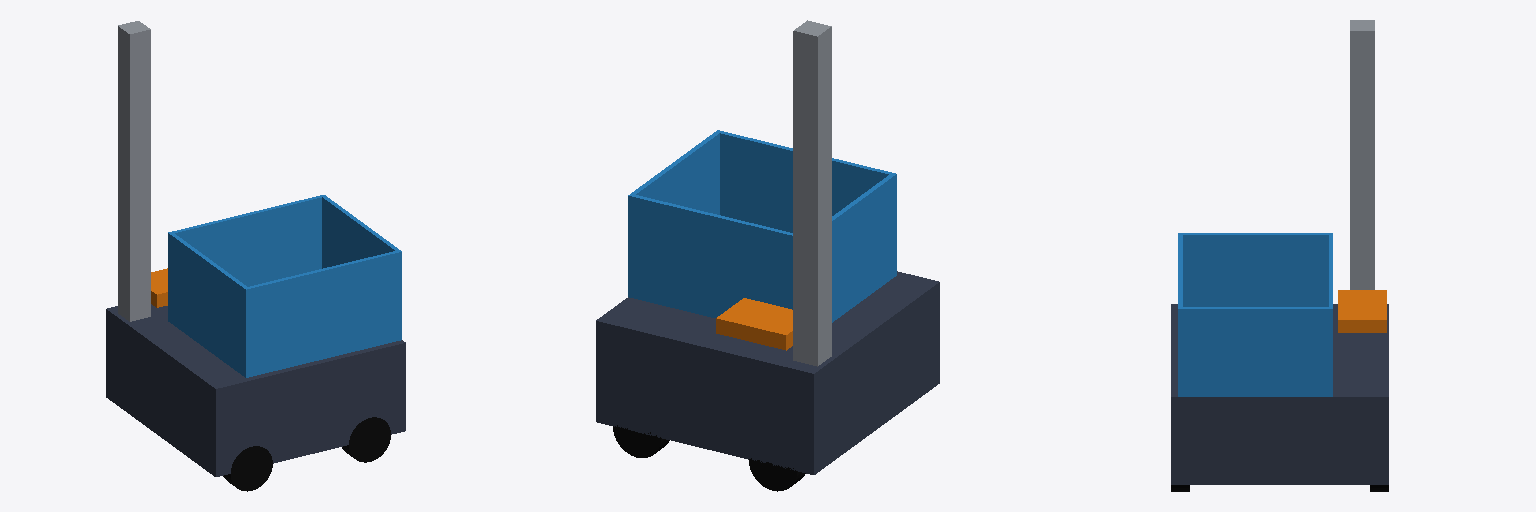
The robot description file, URDF, robot "house_robot":
<?xml version="1.0"?>
<!-- generated by tools/gen_robot.py; PiPER part from agilexrobotics/piper_ros (MIT), see assets/robot/README.md -->
<robot name="house_robot">
  <material name="chassis"><color rgba="0.25 0.28 0.35 1"/></material>
  <material name="wheel"><color rgba="0.08 0.08 0.08 1"/></material>
  <material name="column"><color rgba="0.6 0.62 0.65 1"/></material>
  <material name="carriage"><color rgba="0.9 0.5 0.1 1"/></material>
  <material name="basket"><color rgba="0.2 0.55 0.8 1"/></material>
  <link name="world_anchor">
    <inertial><origin xyz="0 0 0" rpy="0 0 0"/><mass value="0.1"/><inertia ixx="0.001" ixy="0" ixz="0" iyy="0.001" iyz="0" izz="0.001"/></inertial>
  </link>
  <link name="base_x">
    <inertial><origin xyz="0 0 0" rpy="0 0 0"/><mass value="0.1"/><inertia ixx="0.001" ixy="0" ixz="0" iyy="0.001" iyz="0" izz="0.001"/></inertial>
  </link>
  <link name="base_y">
    <inertial><origin xyz="0 0 0" rpy="0 0 0"/><mass value="0.1"/><inertia ixx="0.001" ixy="0" ixz="0" iyy="0.001" iyz="0" izz="0.001"/></inertial>
  </link>
  <joint name="base_x_joint" type="prismatic">
    <origin xyz="0 0 0" rpy="0 0 0"/>
    <parent link="world_anchor"/>
    <child link="base_x"/>
    <axis xyz="1 0 0"/>
    <limit lower="-20" upper="20" effort="500" velocity="2"/>
    <dynamics damping="0" friction="0"/>
  </joint>
  <joint name="base_y_joint" type="prismatic">
    <origin xyz="0 0 0" rpy="0 0 0"/>
    <parent link="base_x"/>
    <child link="base_y"/>
    <axis xyz="0 1 0"/>
    <limit lower="-20" upper="20" effort="500" velocity="2"/>
    <dynamics damping="0" friction="0"/>
  </joint>
  <joint name="base_yaw_joint" type="revolute">
    <origin xyz="0 0 0" rpy="0 0 0"/>
    <parent link="base_y"/>
    <child link="base_link"/>
    <axis xyz="0 0 1"/>
    <limit lower="-6.2832" upper="6.2832" effort="200" velocity="3"/>
    <dynamics damping="0" friction="0"/>
  </joint>
  <link name="base_link">
    <inertial><origin xyz="0 0 0.15" rpy="0 0 0"/><mass value="15"/><inertia ixx="0.303125" ixy="0" ixz="0" iyy="0.303125" iyz="0" izz="0.50625"/></inertial>
    <visual><origin xyz="0 0 0.15" rpy="0 0 0"/><geometry><box size="0.45 0.45 0.2"/></geometry><material name="chassis"/></visual>
    <collision><origin xyz="0 0 0.15" rpy="0 0 0"/><geometry><box size="0.45 0.45 0.2"/></geometry></collision>
    <visual><origin xyz="0.14 0.205 0.05" rpy="1.5708 0 0"/><geometry><cylinder radius="0.05" length="0.04"/></geometry><material name="wheel"/></visual>
    <visual><origin xyz="0.14 -0.205 0.05" rpy="1.5708 0 0"/><geometry><cylinder radius="0.05" length="0.04"/></geometry><material name="wheel"/></visual>
    <visual><origin xyz="-0.14 0.205 0.05" rpy="1.5708 0 0"/><geometry><cylinder radius="0.05" length="0.04"/></geometry><material name="wheel"/></visual>
    <visual><origin xyz="-0.14 -0.205 0.05" rpy="1.5708 0 0"/><geometry><cylinder radius="0.05" length="0.04"/></geometry><material name="wheel"/></visual>
    <visual><origin xyz="-0.19 0.17 0.575" rpy="0 0 0"/><geometry><box size="0.05 0.05 0.65"/></geometry><material name="column"/></visual>
    <collision><origin xyz="-0.19 0.17 0.575" rpy="0 0 0"/><geometry><box size="0.05 0.05 0.65"/></geometry></collision>
    <visual><origin xyz="0.04 -0.05 0.255" rpy="0 0 0"/><geometry><box size="0.37 0.32 0.01"/></geometry><material name="basket"/></visual>
    <collision><origin xyz="0.04 -0.05 0.255" rpy="0 0 0"/><geometry><box size="0.37 0.32 0.01"/></geometry></collision>
    <visual><origin xyz="0.22 -0.05 0.35" rpy="0 0 0"/><geometry><box size="0.01 0.32 0.2"/></geometry><material name="basket"/></visual>
    <collision><origin xyz="0.22 -0.05 0.35" rpy="0 0 0"/><geometry><box size="0.01 0.32 0.2"/></geometry></collision>
    <visual><origin xyz="-0.14 -0.05 0.35" rpy="0 0 0"/><geometry><box size="0.01 0.32 0.2"/></geometry><material name="basket"/></visual>
    <collision><origin xyz="-0.14 -0.05 0.35" rpy="0 0 0"/><geometry><box size="0.01 0.32 0.2"/></geometry></collision>
    <visual><origin xyz="0.04 0.105 0.35" rpy="0 0 0"/><geometry><box size="0.35 0.01 0.2"/></geometry><material name="basket"/></visual>
    <collision><origin xyz="0.04 0.105 0.35" rpy="0 0 0"/><geometry><box size="0.35 0.01 0.2"/></geometry></collision>
    <visual><origin xyz="0.04 -0.205 0.35" rpy="0 0 0"/><geometry><box size="0.35 0.01 0.2"/></geometry><material name="basket"/></visual>
    <collision><origin xyz="0.04 -0.205 0.35" rpy="0 0 0"/><geometry><box size="0.35 0.01 0.2"/></geometry></collision>
  </link>
  <link name="carriage">
    <inertial><origin xyz="-0.0225 0 0.015" rpy="0 0 0"/><mass value="1"/><inertia ixx="0.000908333" ixy="0" ixz="0" iyy="0.00182708" iyz="0" izz="0.00258542"/></inertial>
    <visual><origin xyz="-0.0225 0 0.015" rpy="0 0 0"/><geometry><box size="0.145 0.1 0.03"/></geometry><material name="carriage"/></visual>
    <collision><origin xyz="-0.0225 0 0.015" rpy="0 0 0"/><geometry><box size="0.145 0.1 0.03"/></geometry></collision>
  </link>
  <joint name="lift_joint" type="prismatic">
    <origin xyz="-0.07 0.17 0.28" rpy="0 0 0"/>
    <parent link="base_link"/>
    <child link="carriage"/>
    <axis xyz="0 0 1"/>
    <limit lower="0" upper="0.5" effort="500" velocity="0.2"/>
    <dynamics damping="10" friction="0"/>
  </joint>
  <joint name="carriage_to_piper" type="fixed">
    <origin xyz="0 0 0.03" rpy="0 0 0"/>
    <parent link="carriage"/>
    <child link="piper_base_link"/>
  </joint>
  <link name="piper_base_link">
    <inertial>
      <origin xyz="-0.00473641164191482 2.56829134630247E-05 0.041451518036016" rpy="0 0 0" />
      <mass value="1.02" />
      <inertia ixx="0.00267433" ixy="-0.00000073" ixz="-0.00017389" iyy="0.00282612" iyz="0.0000004" izz="0.00089624" />
    </inertial>
    <visual>
      <origin xyz="0 0 0" rpy="0 0 0" />
      <geometry>
        <mesh filename="piper/meshes/base_link.STL" />
      </geometry>
      <material name="">
        <color rgba="0.792156862745098 0.819607843137255 0.933333333333333 1" />
      </material>
    </visual>
    <collision>
      <origin xyz="0 0 0" rpy="0 0 0" />
      <geometry>
        <mesh filename="piper/meshes/base_link.STL" />
      </geometry>
    </collision>
  </link>
  <link name="link1">
    <inertial>
      <origin xyz="0.000121504734057468 0.000104632162460536 -0.00438597309559853" rpy="0 0 0" />
      <mass value="0.71" />
      <inertia ixx="0.00048916" ixy="-0.00000036" ixz="-0.00000224" iyy="0.00040472" iyz="-0.00000242" izz="0.00043982" />
    </inertial>
    <visual>
      <origin xyz="0 0 0" rpy="0 0 0" />
      <geometry>
        <mesh filename="piper/meshes/link1.STL" />
      </geometry>
      <material name="">
        <color rgba="0.792156862745098 0.819607843137255 0.933333333333333 1" />
      </material>
    </visual>
    <collision>
      <origin xyz="0 0 0" rpy="0 0 0" />
      <geometry>
        <mesh filename="piper/meshes/link1.STL" />
      </geometry>
    </collision>
  </link>
  <joint name="joint1" type="revolute">
    <origin xyz="0 0 0.123" rpy="0 0 0" />
    <parent link="piper_base_link" />
    <child link="link1" />
    <axis xyz="0 0 1" />
    <limit lower="-2.618" upper="2.618" effort="100" velocity="5" />
  </joint>
  <link name="link2">
    <inertial>
      <origin xyz="0.198666145229743 -0.010926924140076 0.00142121714502687" rpy="0 0 0" />
      <mass value="1.17" />
      <inertia ixx="0.00116918" ixy="-0.00180037" ixz="0.00025146" iyy="0.06785384" iyz="-0.00000455" izz="0.06774489" />
    </inertial>
    <visual>
      <origin xyz="0 0 0" rpy="0 0 0" />
      <geometry>
        <mesh filename="piper/meshes/link2.STL" />
      </geometry>
      <material name="">
        <color rgba="0.792156862745098 0.819607843137255 0.933333333333333 1" />
      </material>
    </visual>
    <collision>
      <origin xyz="0 0 0" rpy="0 0 0" />
      <geometry>
        <mesh filename="piper/meshes/link2.STL" />
      </geometry>
    </collision>
  </link>
  <joint name="joint2" type="revolute">
    <origin xyz="0 0 0" rpy="1.5708 -0.1359 -3.1416" />
    <parent link="link1" />
    <child link="link2" />
    <axis xyz="0 0 1" />
    <limit lower="0" upper="3.14" effort="100" velocity="5" />
  </joint>
  <link name="link3">
    <inertial>
      <origin xyz="-0.0202737662122021 -0.133914995944595 -0.000458682652737356" rpy="0 0 0" />
      <mass value="0.5" />
      <inertia ixx="0.01361711" ixy="0.00165794" ixz="-0.00000048" iyy="0.00045024" iyz="-0.00000045" izz="0.01380322" />
    </inertial>
    <visual>
      <origin xyz="0 0 0" rpy="0 0 0" />
      <geometry>
        <mesh filename="piper/meshes/link3.STL" />
      </geometry>
      <material name="">
        <color rgba="0.792156862745098 0.819607843137255 0.933333333333333 1" />
      </material>
    </visual>
    <collision>
      <origin xyz="0 0 0" rpy="0 0 0" />
      <geometry>
        <mesh filename="piper/meshes/link3.STL" />
      </geometry>
    </collision>
  </link>
  <joint name="joint3" type="revolute">
    <origin xyz="0.28503 0 0" rpy="0 0 -1.7939" />
    <parent link="link2" />
    <child link="link3" />
    <axis xyz="0 0 1" />
    <limit lower="-2.967" upper="0" effort="100" velocity="5" />
  </joint>
  <link name="link4">
    <inertial>
      <origin xyz="-9.66635791618542E-05 0.000876064475651083 -0.00496880904640868" rpy="0 0 0" />
      <mass value="0.38" />
      <inertia ixx="0.00018501" ixy="0.00000054" ixz="0.00000120" iyy="0.00018965" iyz="-0.00000841" izz="0.00015484" />
    </inertial>
    <visual>
      <origin xyz="0 0 0" rpy="0 0 0" />
      <geometry>
        <mesh filename="piper/meshes/link4.STL" />
      </geometry>
      <material name="">
        <color rgba="0.792156862745098 0.819607843137255 0.933333333333333 1" />
      </material>
    </visual>
    <collision>
      <origin xyz="0 0 0" rpy="0 0 0" />
      <geometry>
        <mesh filename="piper/meshes/link4.STL" />
      </geometry>
    </collision>
  </link>
  <joint name="joint4" type="revolute">
    <origin xyz="-0.021984 -0.25075 0" rpy="1.5708 0 0" />
    <parent link="link3" />
    <child link="link4" />
    <axis xyz="0 0 1" />
    <limit lower="-1.745" upper="1.745" effort="100" velocity="5" />
  </joint>
  <link name="link5">
    <inertial>
      <origin xyz="-4.10554118924211E-05 -0.0566486692356075 -0.0037205791677906" rpy="0 0 0" />
      <mass value="0.383" />
      <inertia ixx="0.00166169" ixy="0.00000006" ixz="-0.00000007" iyy="0.00018510" iyz="0.00001026" izz="0.00164321" />
    </inertial>
    <visual>
      <origin xyz="0 0 0" rpy="0 0 0" />
      <geometry>
        <mesh filename="piper/meshes/link5.STL" />
      </geometry>
      <material name="">
        <color rgba="0.792156862745098 0.819607843137255 0.933333333333333 1" />
      </material>
    </visual>
    <collision>
      <origin xyz="0 0 0" rpy="0 0 0" />
      <geometry>
        <mesh filename="piper/meshes/link5.STL" />
      </geometry>
    </collision>
  </link>
  <joint name="joint5" type="revolute">
    <origin xyz="0 0 0" rpy="-1.5708 0 0" />
    <parent link="link4" />
    <child link="link5" />
    <axis xyz="0 0 1" />
    <limit lower="-1.22" upper="1.22" effort="100" velocity="5" />
  </joint>
  <link name="link6">
    <inertial>
      <origin xyz="-8.82590762930069E-05 9.0598378529832E-06 -0.002" rpy="0 0 0" />
      <mass value="0.007" />
      <inertia ixx="5.73015540542155E-07" ixy="-1.98305403089247E-22" ixz="-7.2791893904596E-23" iyy="5.73015540542155E-07" iyz="-3.4146026640245E-24" izz="1.06738869138926E-06" />
    </inertial>
    <visual>
      <origin xyz="0 0 0" rpy="0 0 0" />
      <geometry>
        <mesh filename="piper/meshes/link6.STL" />
      </geometry>
      <material name="">
        <color rgba="0.898039215686275 0.917647058823529 0.929411764705882 1" />
      </material>
    </visual>
    <collision>
      <origin xyz="0 0 0" rpy="0 0 0" />
      <geometry>
        <mesh filename="piper/meshes/link6.STL" />
      </geometry>
    </collision>
  </link>
  <joint name="joint6" type="revolute">
    <origin xyz="8.8259E-05 -0.091 0" rpy="1.5708 0 0" />
    <parent link="link5" />
    <child link="link6" />
    <axis xyz="0 0 1" />
    <limit lower="-2.0944" upper="2.0944" effort="100" velocity="3" />
  </joint>
  <link name="gripper_base">
    <inertial>
      <origin xyz="-0.000183807162235591 8.05033155577911E-05 0.0321436689908876" rpy="0 0 0" />
      <mass value="0.45" />
      <inertia ixx="0.00092934" ixy="0.00000034" ixz="-0.00000738" iyy="0.00071447" iyz="0.00000005" izz="0.00039442" />
    </inertial>
    <visual>
      <origin xyz="0 0 0" rpy="0 0 0" />
      <geometry>
        <mesh filename="piper/meshes/gripper_base.STL" />
      </geometry>
      <material name="">
        <color rgba="0.792156862745098 0.819607843137255 0.933333333333333 1" />
      </material>
    </visual>
    <collision>
      <origin xyz="0 0 0" rpy="0 0 0" />
      <geometry>
        <mesh filename="piper/meshes/gripper_base.STL" />
      </geometry>
    </collision>
  </link>
  <joint name="joint6_to_gripper_base" type="fixed">
    <origin xyz="0 0 0" rpy="0 0 0" />
    <parent link="link6" />
    <child link="gripper_base" />
  </joint>
  <link name="link7">
    <inertial>
      <origin xyz="0.00065123185041968 -0.0491929869131989 0.00972258769184025" rpy="0 0 0" />
      <mass value="0.025" />
      <inertia ixx="0.00007371" ixy="-0.00000113" ixz="0.00000021" iyy="0.00000781" iyz="-0.00001372" izz="0.0000747" />
    </inertial>
    <visual>
      <origin xyz="0 0 0" rpy="0 0 0" />
      <geometry>
        <mesh filename="piper/meshes/link7.STL" />
      </geometry>
      <material name="">
        <color rgba="0.792156862745098 0.819607843137255 0.933333333333333 1" />
      </material>
    </visual>
    <collision>
      <origin xyz="0 0 0" rpy="0 0 0" />
      <geometry>
        <mesh filename="piper/meshes/link7.STL" />
      </geometry>
    </collision>
  </link>
  <joint name="joint7" type="prismatic">
    <origin xyz="0 0 0.1358" rpy="1.5708 0 0" />
    <parent link="gripper_base" />
    <child link="link7" />
    <axis xyz="0 0 1" />
    <limit lower="0" upper="0.035" effort="10" velocity="1" />
  </joint>
  <link name="link8">
    <inertial>
      <origin xyz="0.000651231850419722 -0.0491929869131991 0.00972258769184024" rpy="0 0 0" />
      <mass value="0.025" />
      <inertia ixx="0.00007371" ixy="-0.00000113" ixz="0.00000021" iyy="0.00000781" iyz="-0.00001372" izz="0.0000747" />
    </inertial>
    <visual>
      <origin xyz="0 0 0" rpy="0 0 0" />
      <geometry>
        <mesh filename="piper/meshes/link8.STL" />
      </geometry>
      <material name="">
        <color rgba="0.792156862745098 0.819607843137255 0.933333333333333 1" />
      </material>
    </visual>
    <collision>
      <origin xyz="0 0 0" rpy="0 0 0" />
      <geometry>
        <mesh filename="piper/meshes/link8.STL" />
      </geometry>
    </collision>
  </link>
  <joint name="joint8" type="prismatic">
    <origin xyz="0 0 0.1358" rpy="1.5708 0 -3.1416" />
    <parent link="gripper_base" />
    <child link="link8" />
    <axis xyz="0 0 -1" />
    <limit lower="-0.035" upper="0" effort="10" velocity="1" />
  </joint>
</robot>

--- Facts derived from the render (not from the file) ---
3 views of the same robot in one strip: view 1: azimuth 30°, elevation 25°; view 2: azimuth 150°, elevation 25°; view 3: azimuth 270°, elevation 25° (orthographic).
Robot: house_robot — 15 links, 14 joints (7 revolute, 5 prismatic, 2 fixed); root link world_anchor; default pose: every joint at zero.
Links seen in each view (by area): view 1: base_link, carriage; view 2: base_link, carriage; view 3: base_link, carriage.
Boxes of the visible links, bbox=[...] form: base_link: bbox=[106, 21, 405, 491]; carriage: bbox=[151, 268, 167, 307]; base_link: bbox=[596, 20, 939, 491]; carriage: bbox=[716, 298, 792, 350]; base_link: bbox=[1171, 20, 1388, 491]; carriage: bbox=[1338, 290, 1386, 332].
Bounding box of the posed robot: 0.45 × 0.45 × 0.9 m (x, y, z).
Meshes: 10 distinct files referenced, 0 mesh visuals loaded (none loaded); not drawn: 10 (reference not matched to a file when rendering).
